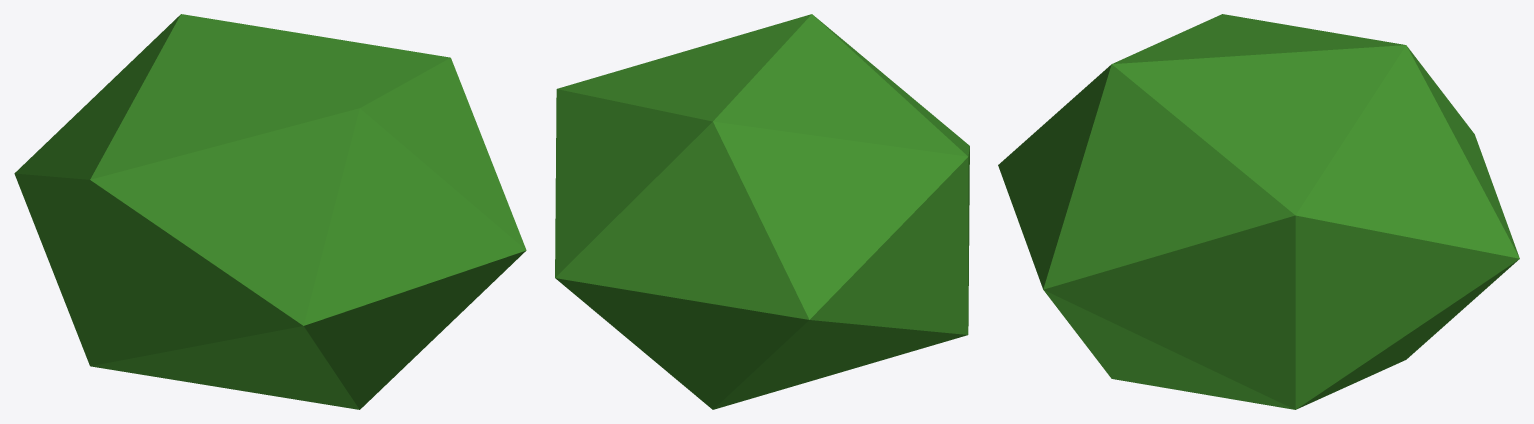
The model's file is bush_1.glb.
3 views of the same model, side by side, from view 1: azimuth 30°, elevation 25°; view 2: azimuth 150°, elevation 25°; view 3: azimuth 270°, elevation 25° (orthographic). The views are drawn at different scales.
Parts seen in each view (by area): view 1: Bush; view 2: Bush; view 3: Bush.
Part boxes in pixels (x1,y1,x2,y2): Bush: [14, 14, 526, 409]; Bush: [555, 14, 969, 409]; Bush: [998, 14, 1519, 409].
Size of the model in its own units: 1.26 by 0.9187 by 1.38.
